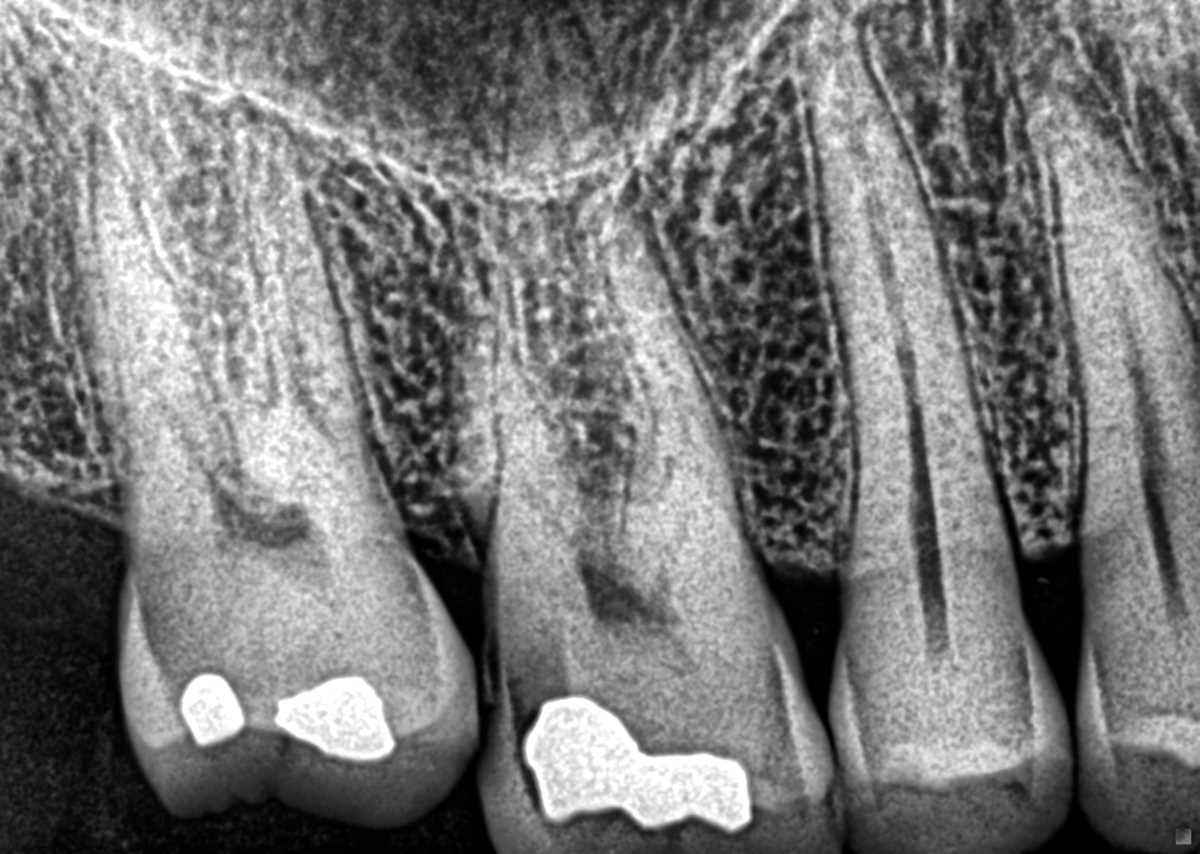Distal Root: (76, 248, 239, 530), (446, 284, 603, 573)
Main Canal: (841, 98, 941, 552), (1094, 226, 1177, 516)
Main Root: (796, 5, 1005, 557), (1025, 89, 1200, 524)
Mesial Root: (596, 215, 741, 556), (235, 118, 375, 456)
Palatal Root: (497, 4, 746, 545), (100, 0, 361, 503)
